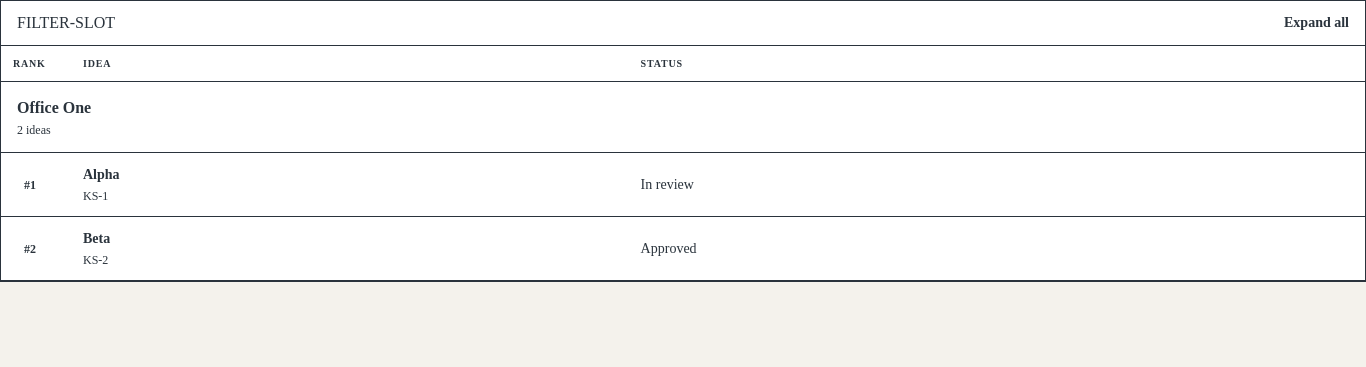
Test case: K5 RankedTable › opens and closes a row by click, with aria-expanded
Click the row "#1 Alpha KS-1 In review" at (683, 184), box [1,152,1365,216]
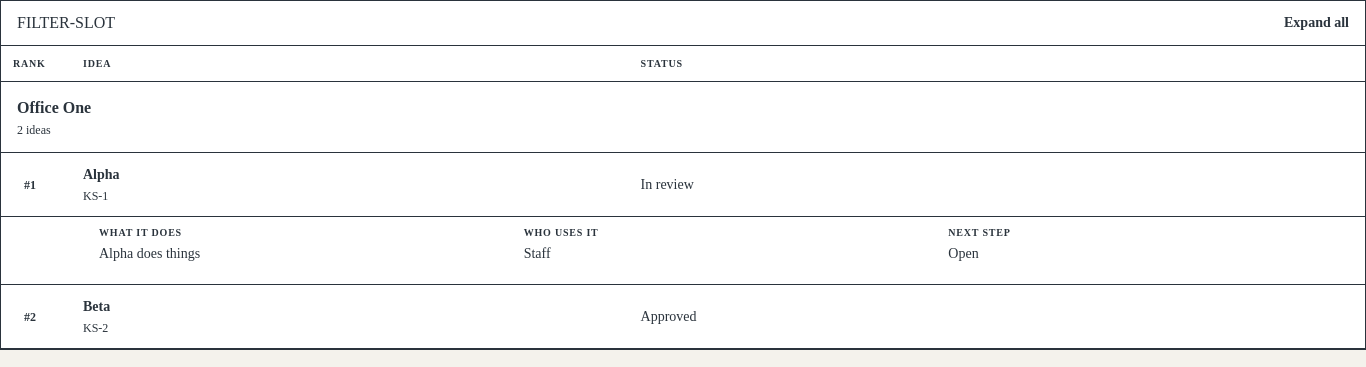
Expected: the row "#1 Alpha KS-1 In review" is expanded
Expected: the text "Alpha does things" is shown, [99,246,200,261]
Click the row "#1 Alpha KS-1 In review" at (683, 184), box [1,152,1365,216]
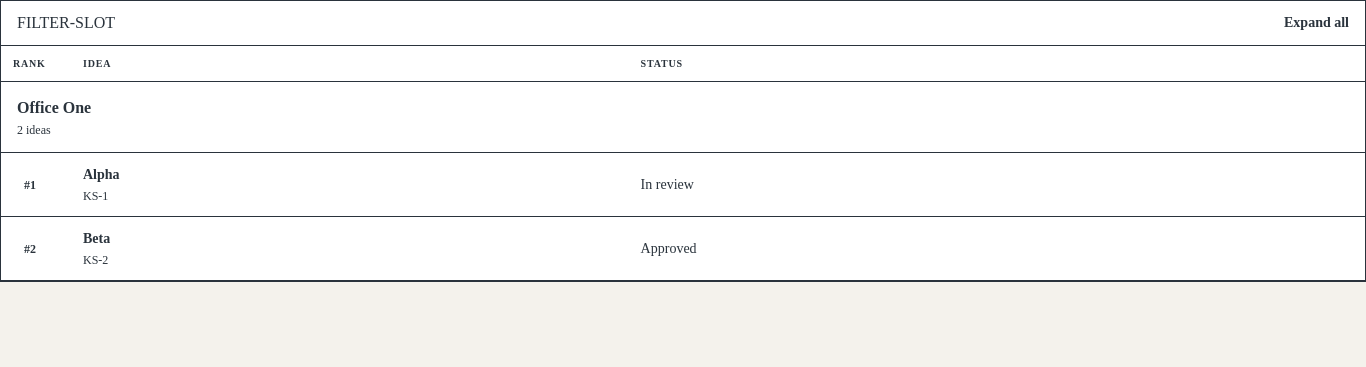
Expected: the row "#1 Alpha KS-1 In review" is collapsed, [1,152,1365,216]
